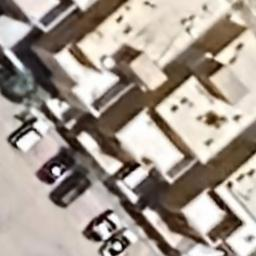SUV: (12, 114, 48, 154), (55, 173, 91, 208)
sedan: (37, 148, 75, 184), (87, 212, 122, 242), (101, 229, 139, 256)
